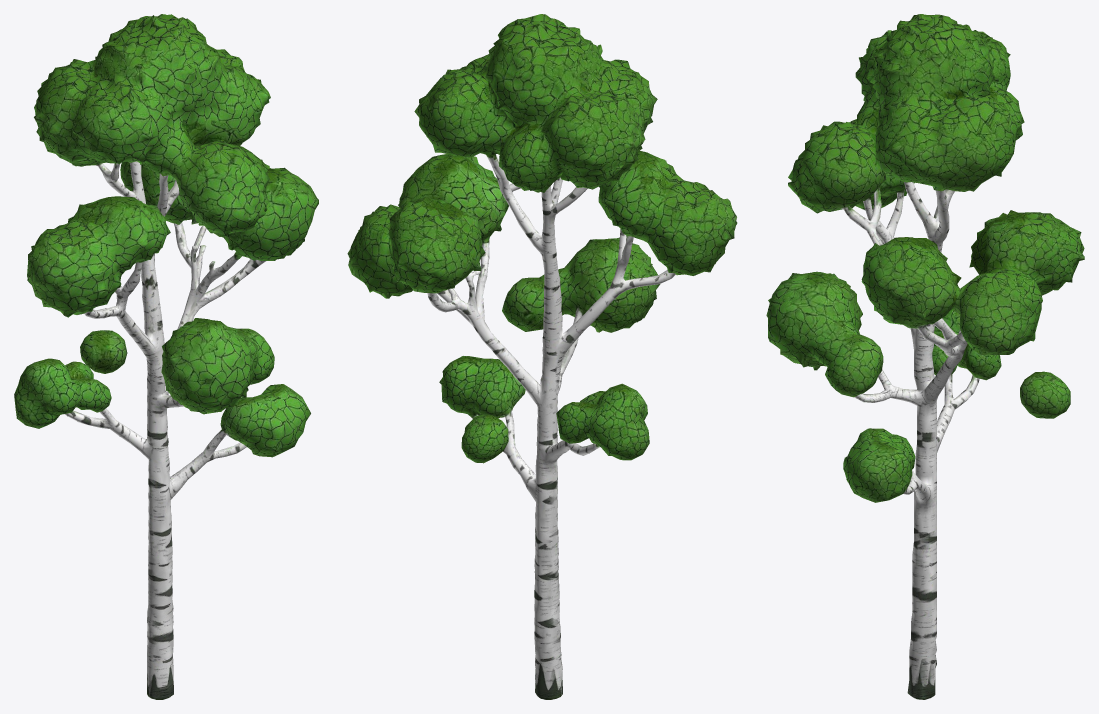
File: birch_b.glb
3 renders of one model, left to right at view 1: azimuth 30°, elevation 25°; view 2: azimuth 150°, elevation 25°; view 3: azimuth 270°, elevation 25°, orthographic.
Parts seen in each view (by area): view 1: model; view 2: model; view 3: model.
Boxes of the visible parts, x1,y1,x2,y2 form: model: (14,14,318,699); model: (347,14,737,699); model: (766,14,1084,699).
Size of the model in its own units: 0.9393 by 1.91 by 0.8102.
Materials: 1 (1 with a texture image).
